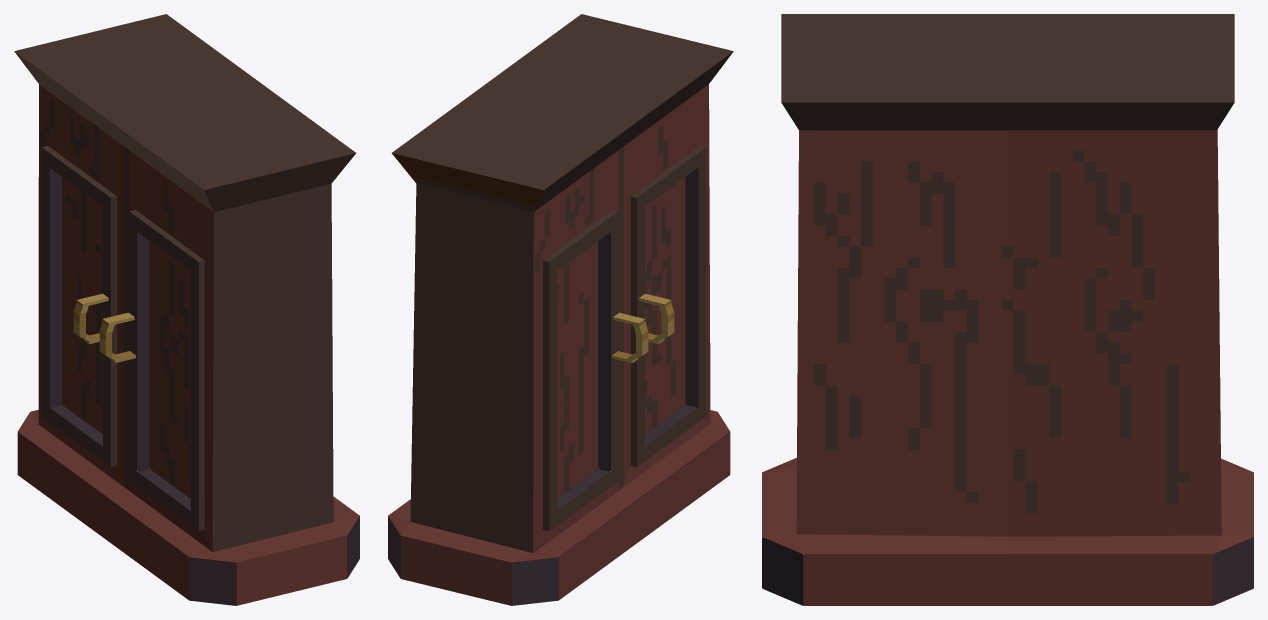
Rendered from bedroomwardrobe.fbx.
3 renders of one model, left to right at view 1: azimuth 30°, elevation 25°; view 2: azimuth 150°, elevation 25°; view 3: azimuth 270°, elevation 25°, orthographic. The views are drawn at different scales.
Visible parts, largest first — view 1: closet; view 2: closet; view 3: closet.
Part boxes in pixels (x1,y1,x2,y2): closet: [14, 14, 359, 605]; closet: [388, 14, 733, 605]; closet: [762, 14, 1253, 605].
Bounding box in the file's own units: 149 × 321 × 289.
1 material, 1 textured.
